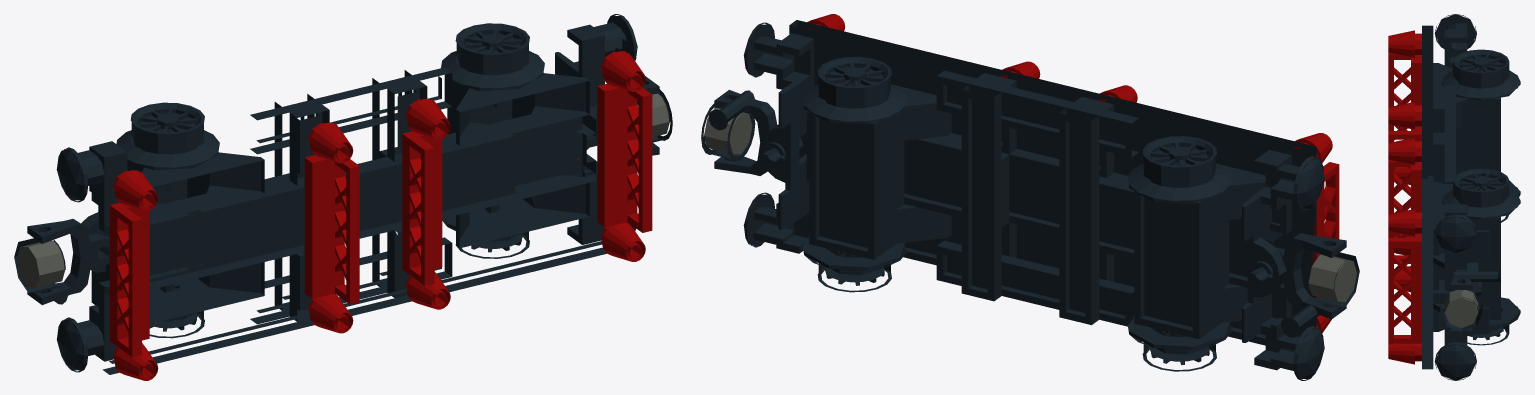
File: wagon-2.glb
3 renders of one model, left to right at view 1: azimuth 30°, elevation 25°; view 2: azimuth 150°, elevation 25°; view 3: azimuth 270°, elevation 25°, orthographic. The views are drawn at different scales.
Size of the model in its own units: 155 by 52 by 37.6.
